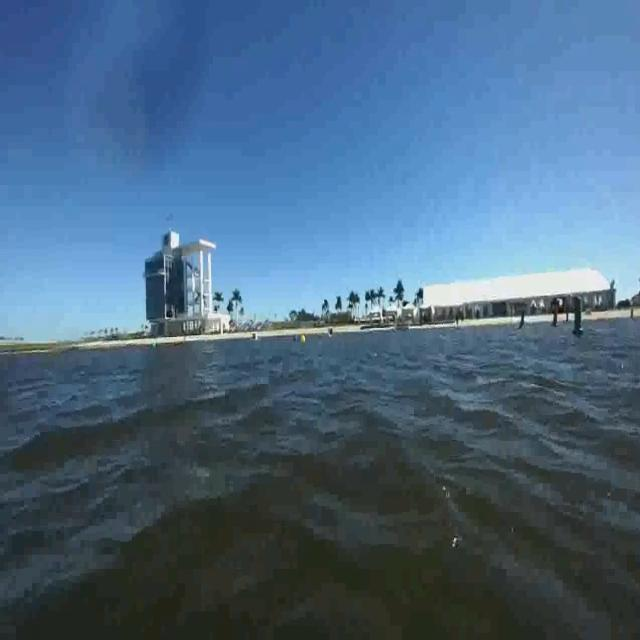green-column-buoy: (571, 298, 585, 339)
yellow-buoy: (299, 334, 305, 347)
